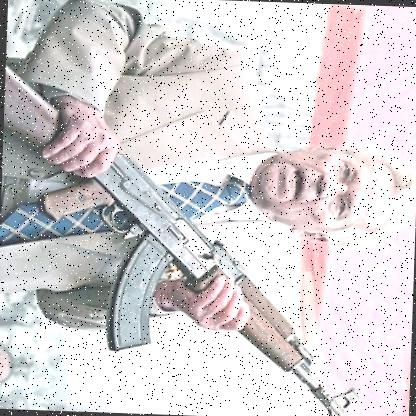rifle: (0, 58, 366, 416)
